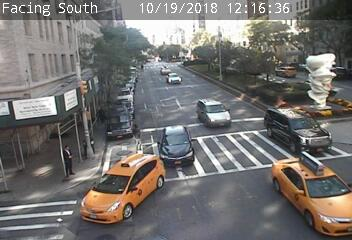carw: (270, 154, 352, 235), (80, 152, 166, 223), (264, 105, 332, 154), (160, 126, 194, 166), (196, 98, 232, 127), (166, 72, 182, 84)
